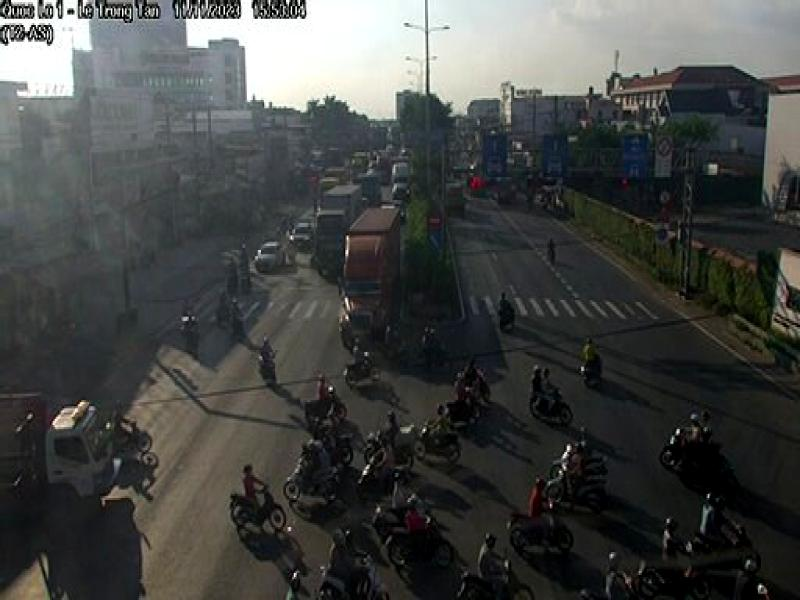truck: (343, 204, 402, 346)
